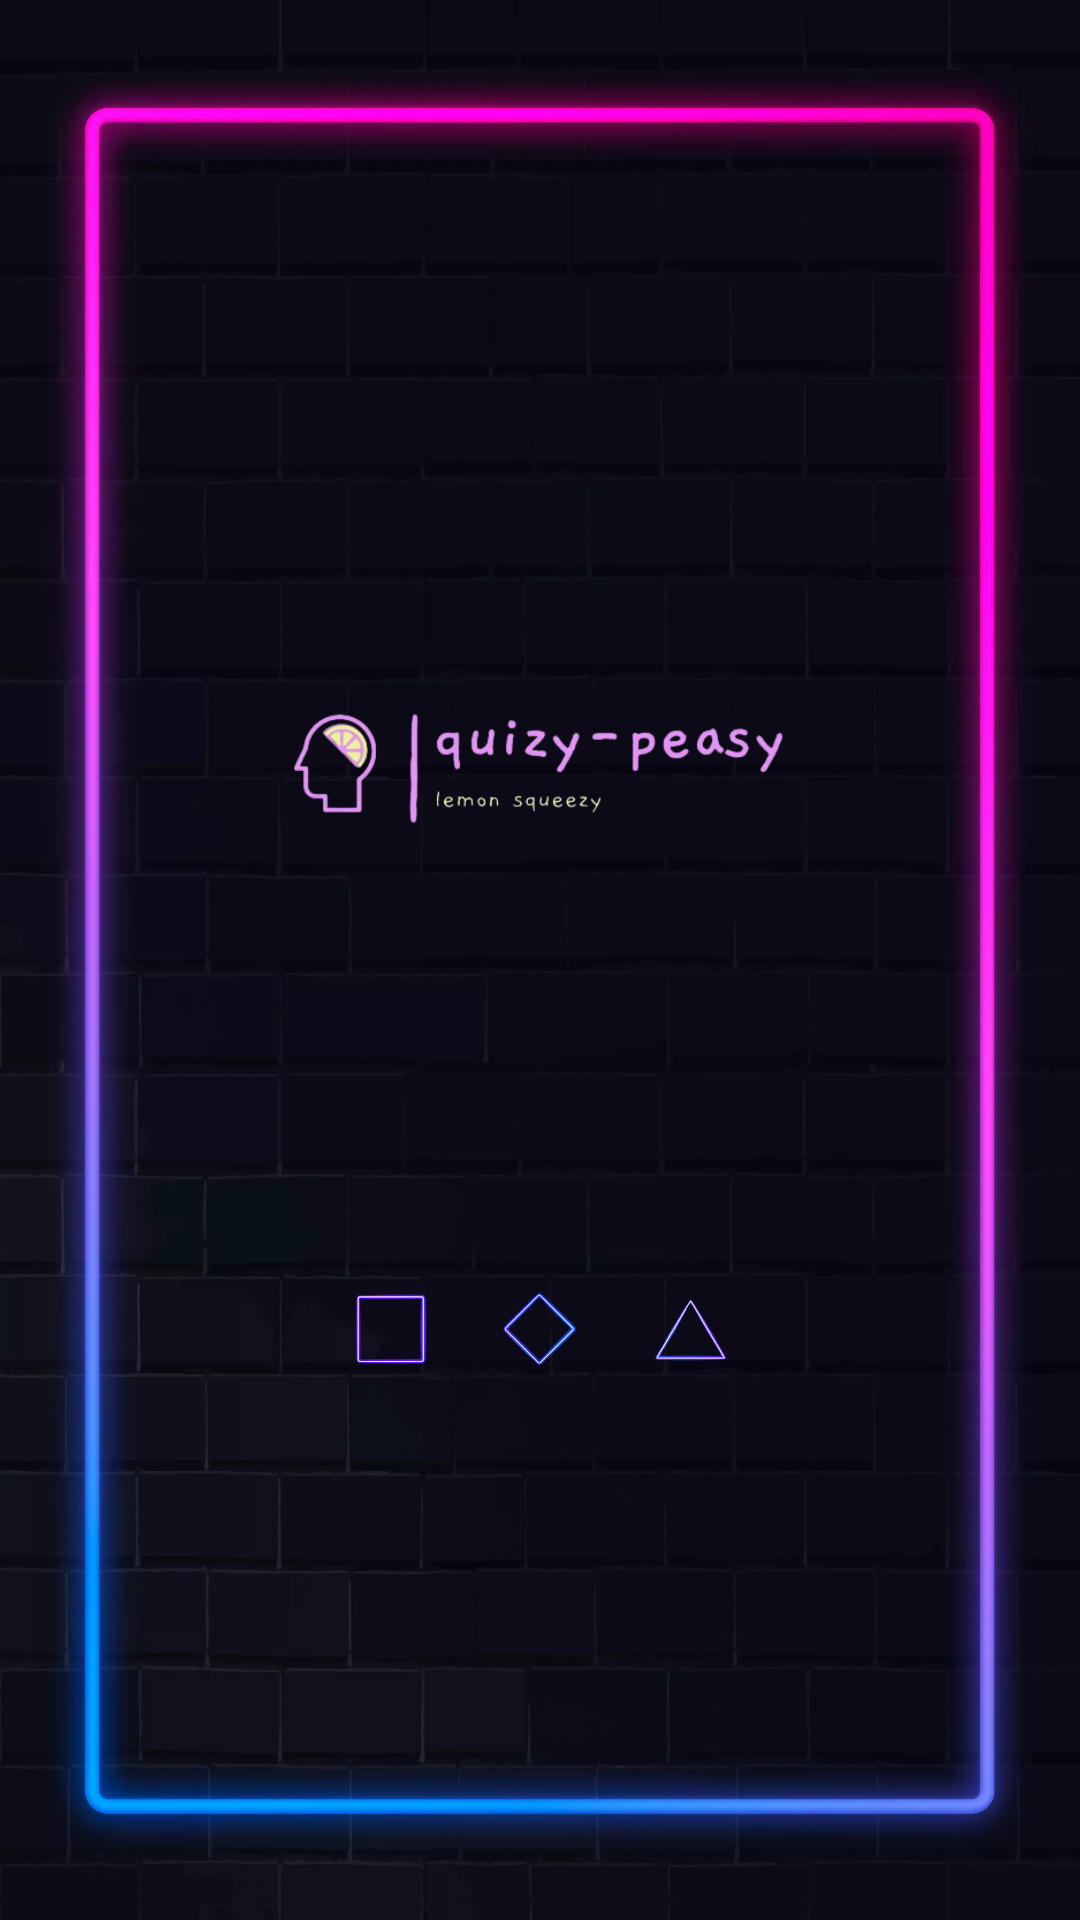

Named icons in this screenshot (1080 × 1920) and their bounding boxes, (left=x1, top=y1, right=x2, bottom=y2):
square rotated: (left=503, top=1293, right=576, bottom=1365)
triangle: (left=655, top=1300, right=726, bottom=1361)
